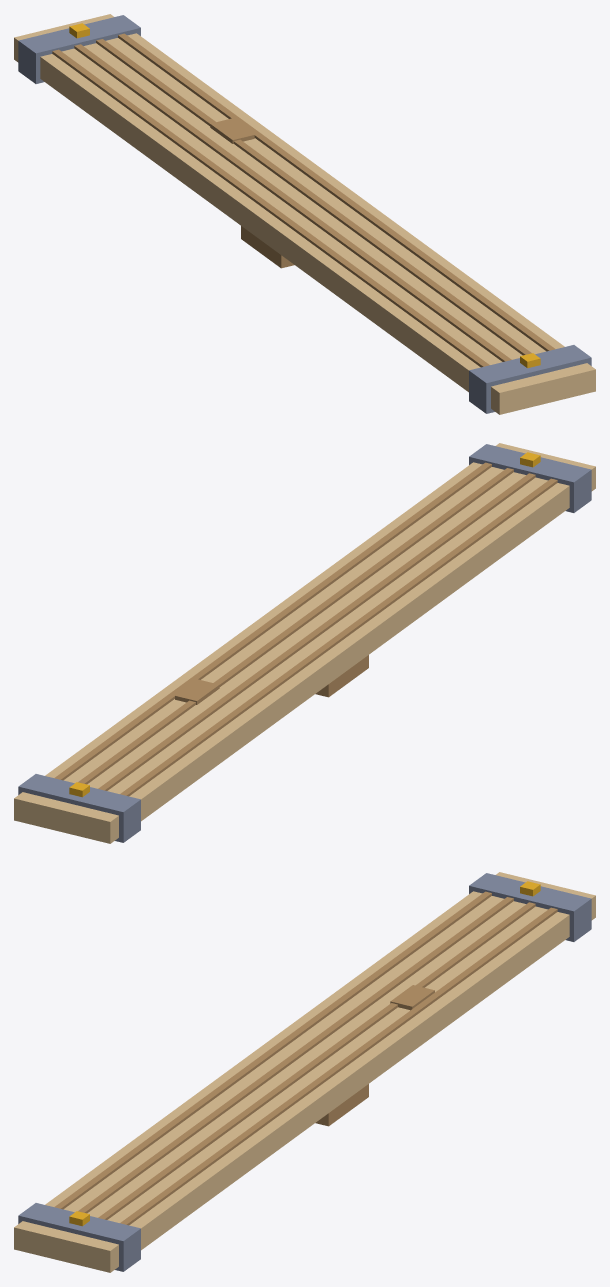
The model's file is plank.glb.
The picture shows the model from 3 angles, top to bottom: view 1: azimuth 30°, elevation 25°; view 2: azimuth 150°, elevation 25°; view 3: azimuth 330°, elevation 25°; orthographic projection.
Parts seen in each view (by area): view 1: plank; view 2: plank; view 3: plank.
Boxes of the visible parts, x1,y1,x2,y2 form: plank: (14,14,595,414); plank: (14,443,595,843); plank: (14,872,595,1272).
Bounding box in the file's own units: 0.25 × 0.115 × 2.
